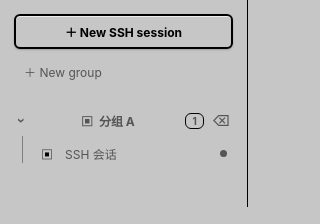
SessionSidebar › hides and restores only the toggled group children
The image size is (320, 224).
Click the button with test id "group-toggle-group-a": (109, 124) x1=10 y1=112 x2=209 y2=135
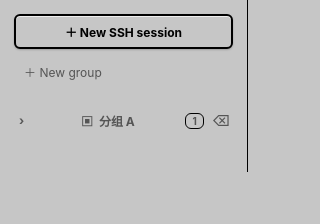
Now the button with test id "group-toggle-group-a" is collapsed
Click the button with test id "group-toggle-group-a": (109, 124) x1=10 y1=112 x2=209 y2=135
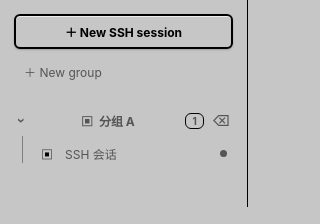
Now the button with test id "session-child-session-a" is shown, box x1=32 y1=136 x2=237 y2=171
